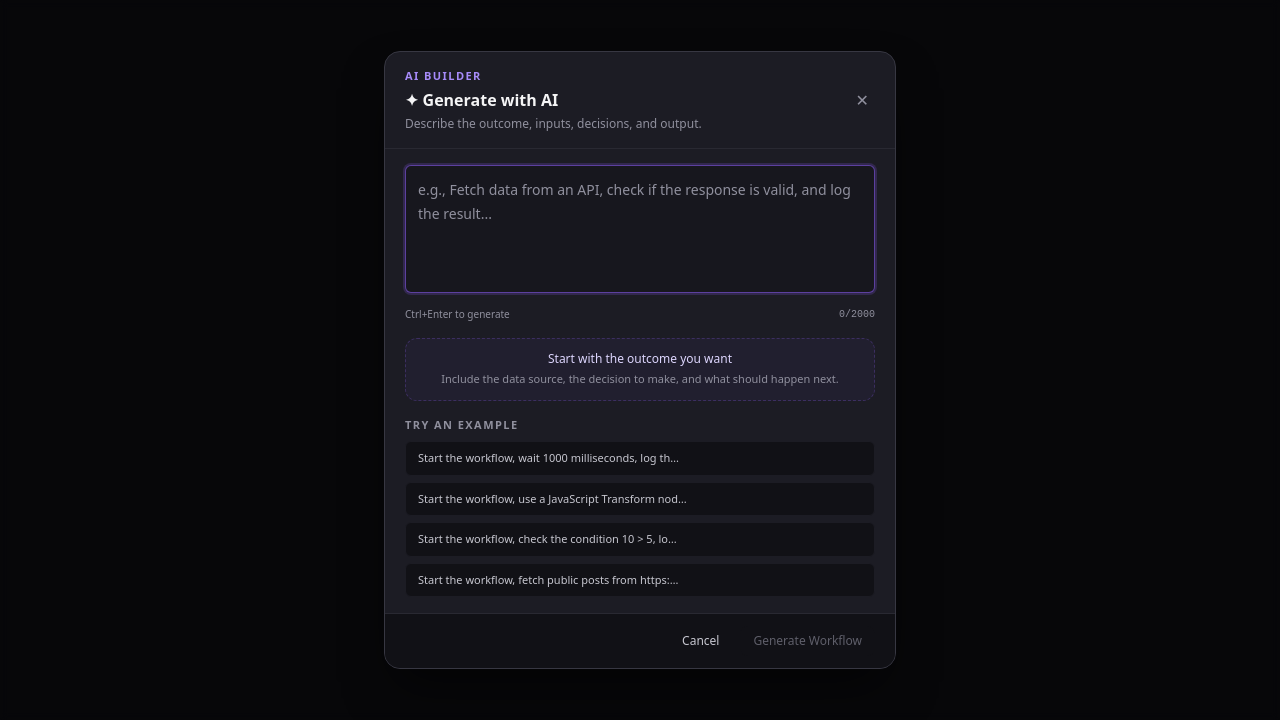
AIGeneratorModal validation › keeps incomplete generated graphs out of the workflow store
The width and height of the screenshot is (1280, 720).
Replace the text in the text box with placeholder "Fetch data from an API" with "Fetch customer data" at (640, 229), box 405,165 -> 875,293
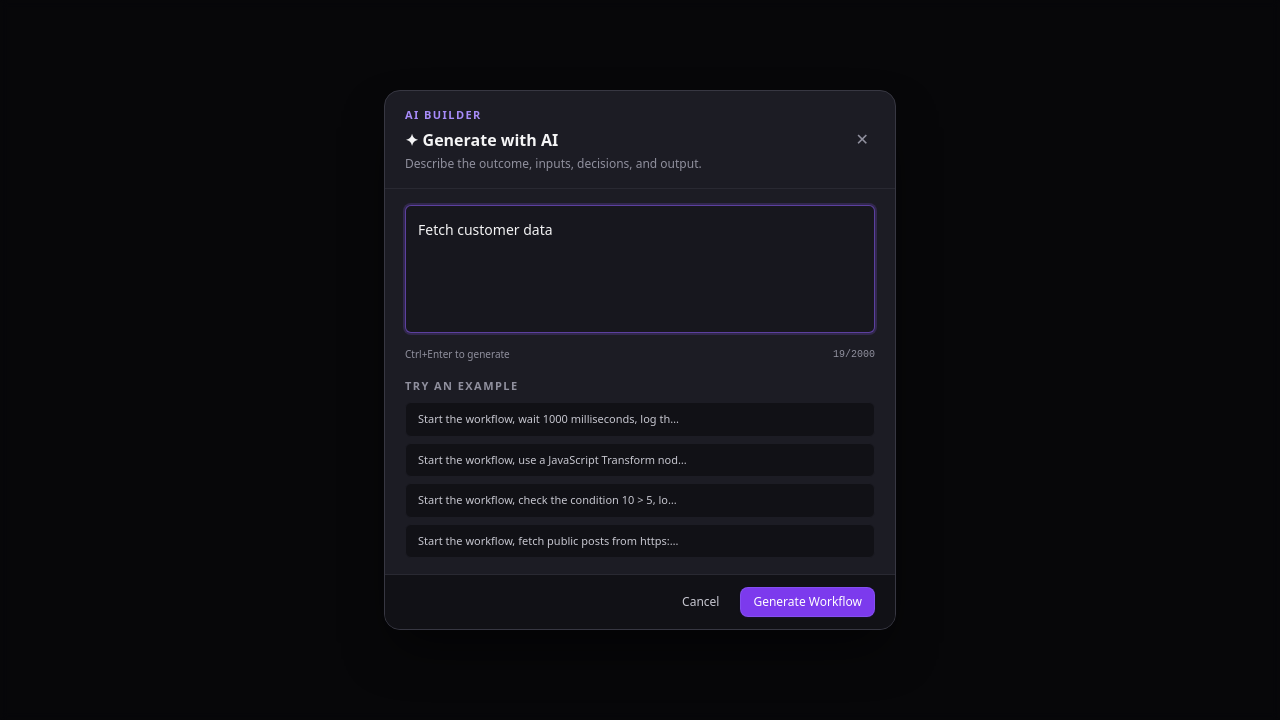
Click the button "Generate Workflow" at (808, 602), box 740,587 -> 875,617
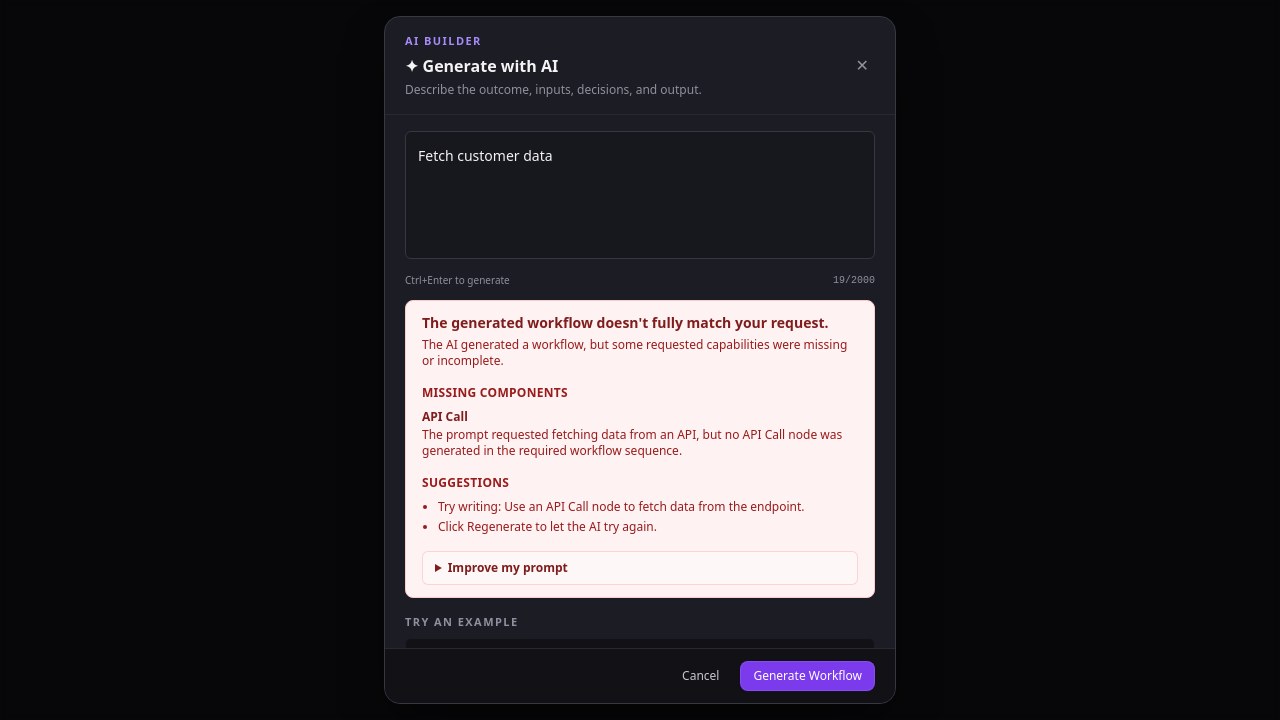
Check: the heading "Missing components" is shown, box 422,384 -> 568,400
